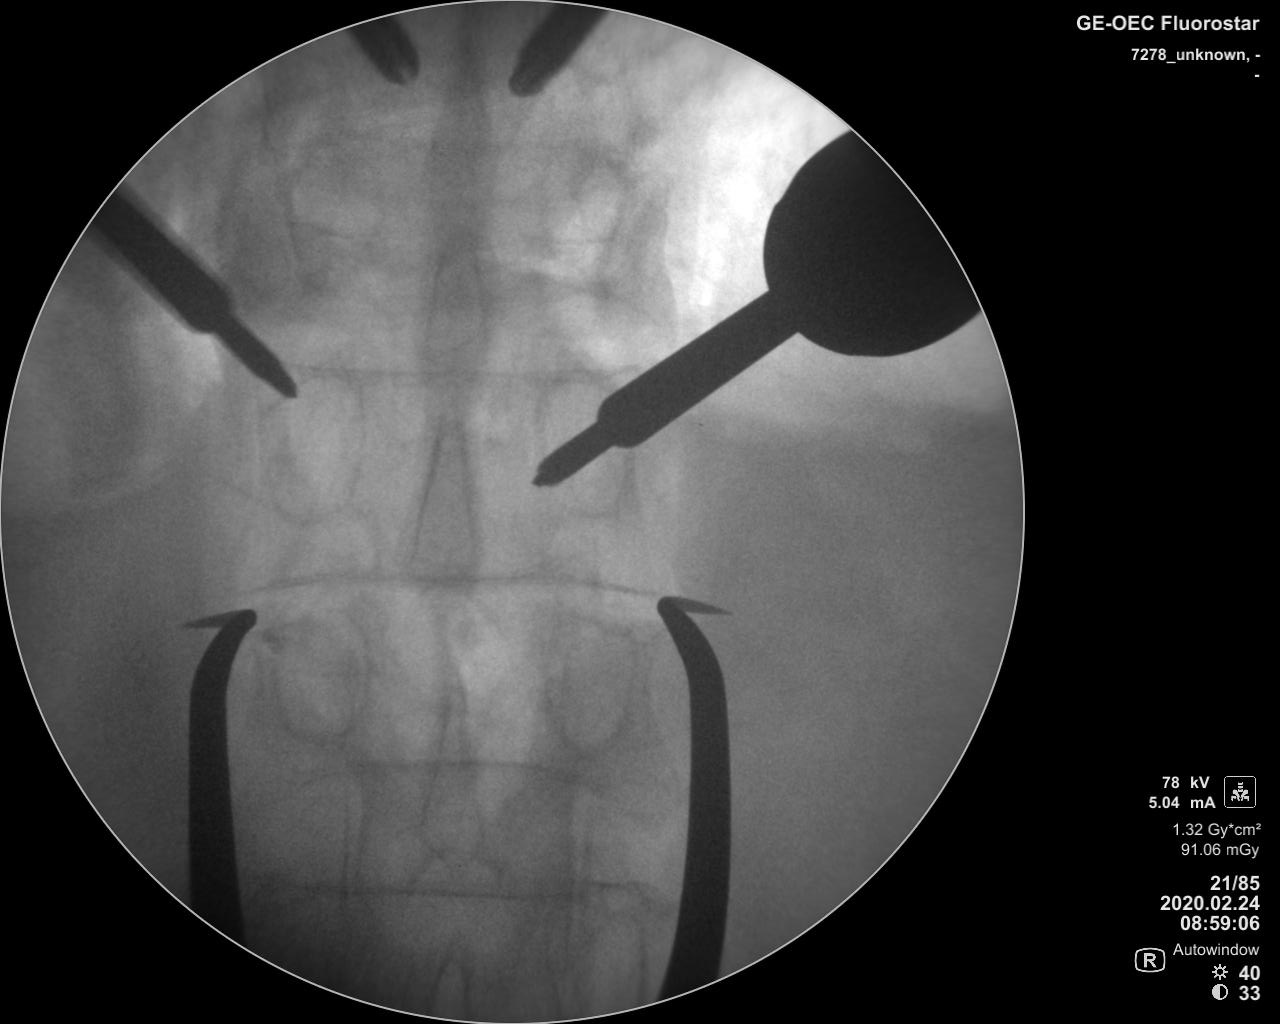eyes: (267, 374, 364, 527), (263, 609, 372, 743), (535, 377, 635, 519), (531, 157, 633, 289), (285, 147, 385, 282), (548, 629, 638, 762)
line: (238, 567, 664, 600), (280, 753, 599, 793), (292, 355, 619, 393), (276, 876, 585, 908)
nose: (402, 405, 487, 605), (422, 32, 495, 235), (413, 674, 483, 870), (418, 223, 486, 413)
